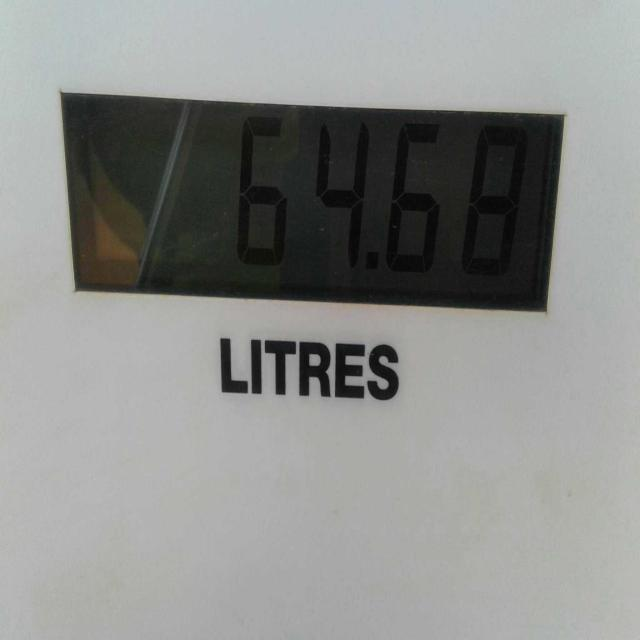.: (360, 243, 386, 301)
4: (308, 118, 381, 301)
6: (206, 104, 297, 294), (378, 107, 448, 290)
8: (451, 104, 536, 289)
